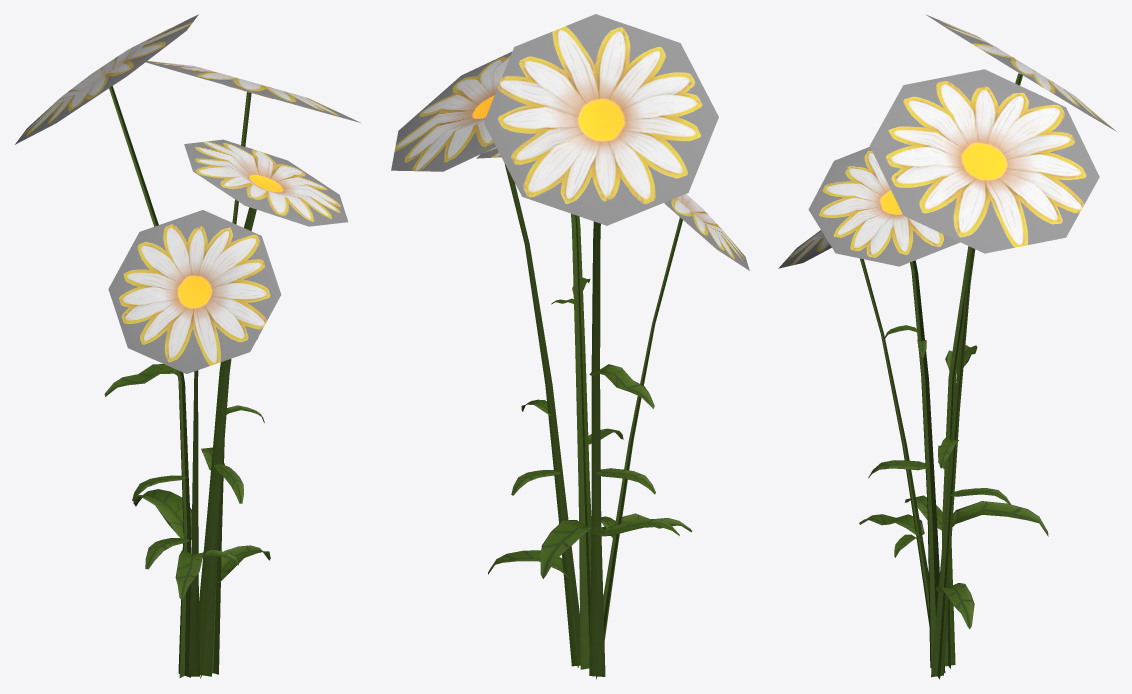
Rendered from daisy.glb.
3 renders of one model, left to right at view 1: azimuth 30°, elevation 25°; view 2: azimuth 150°, elevation 25°; view 3: azimuth 270°, elevation 25°, orthographic. The views are drawn at different scales.
Parts seen in each view (by area): view 1: Daisy; view 2: Daisy; view 3: Daisy.
Part boxes in pixels (x1,y1,x2,y2): Daisy: [15, 14, 361, 678]; Daisy: [391, 14, 749, 679]; Daisy: [778, 14, 1116, 679].
Bounding box in the file's own units: 0.189 × 0.3821 × 0.1844.
Materials: 3 (3 with a texture image).
